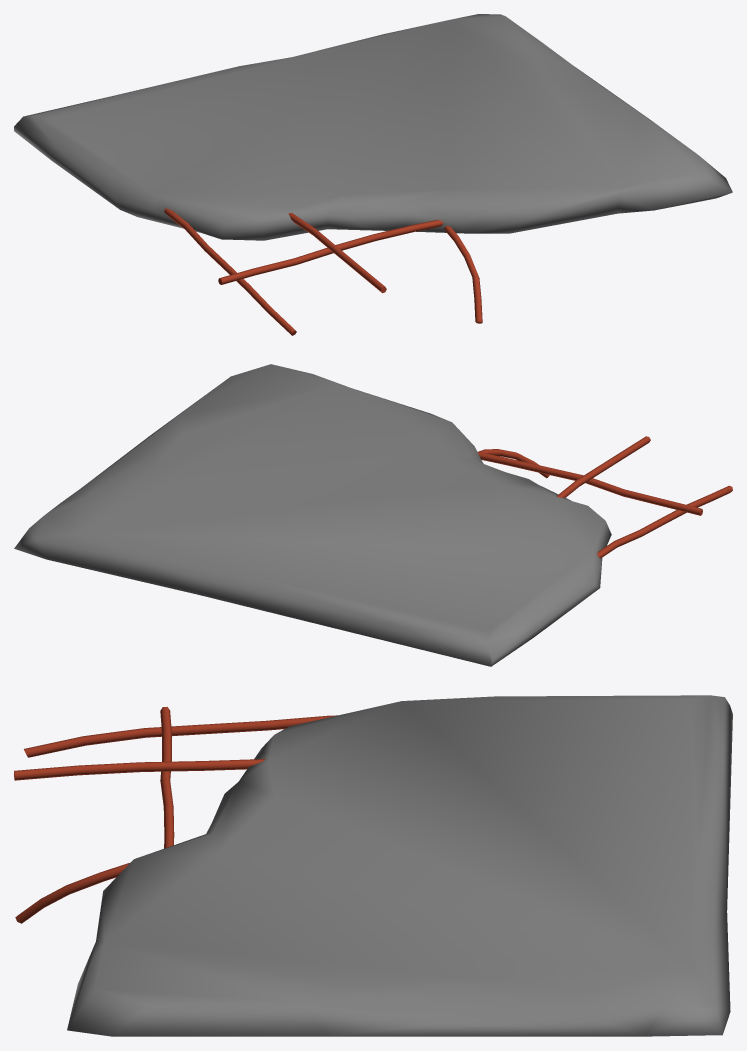
Rendered from SM_floor_04.fbx.
3 renders of one model, top to bottom at view 1: azimuth 30°, elevation 25°; view 2: azimuth 150°, elevation 25°; view 3: azimuth 270°, elevation 25°, orthographic. The views are drawn at different scales.
Visible parts, largest first — view 1: Object030; view 2: Object030; view 3: Object030.
Boxes of the visible parts, left/top/right/bottom form: Object030: left=14, top=14, right=732, bottom=335; Object030: left=14, top=364, right=732, bottom=666; Object030: left=14, top=695, right=732, bottom=1036.
Size of the model in its own units: 199 by 27.98 by 184.
